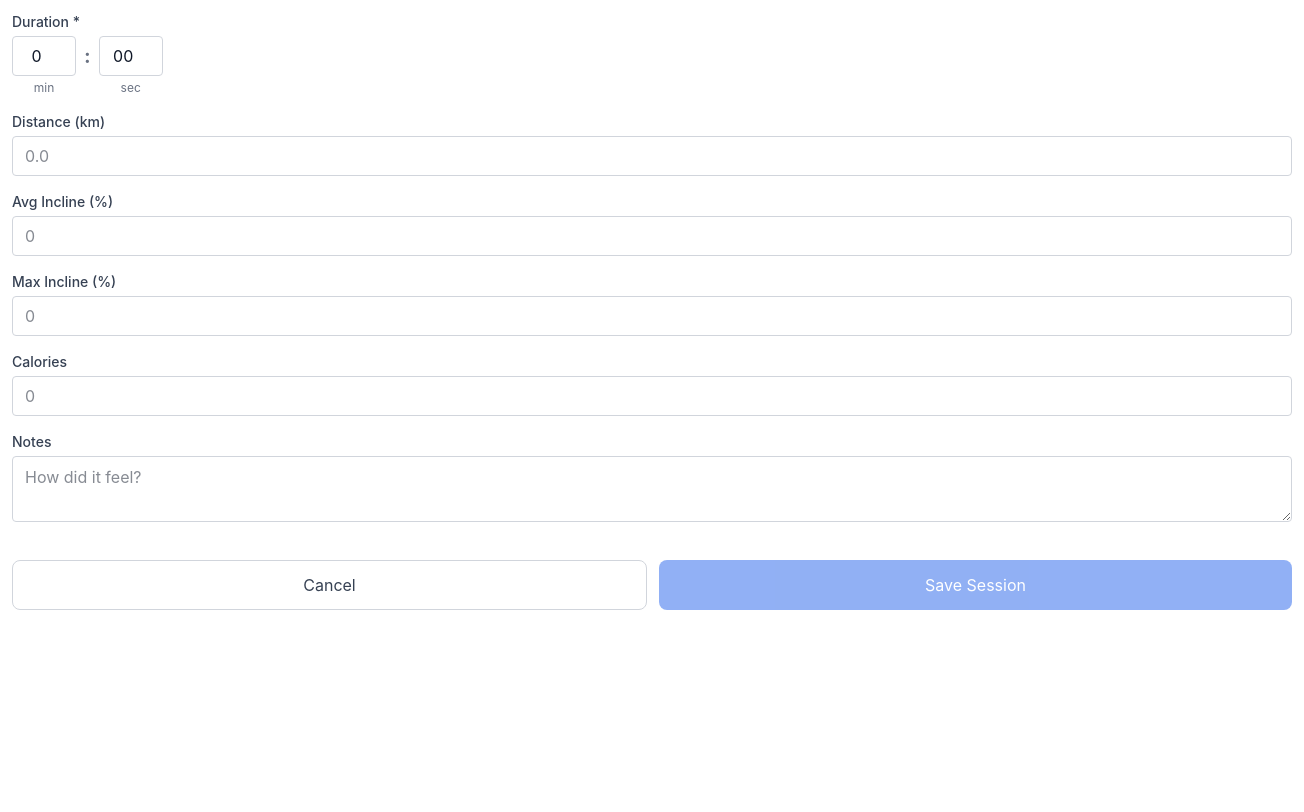
Test case: TreadmillForm › should enable save button when duration is set
This screenshot has width=1304, height=812.
Replace the text in the number field named "Minutes" with "30" at (44, 56), box [12,36,76,76]
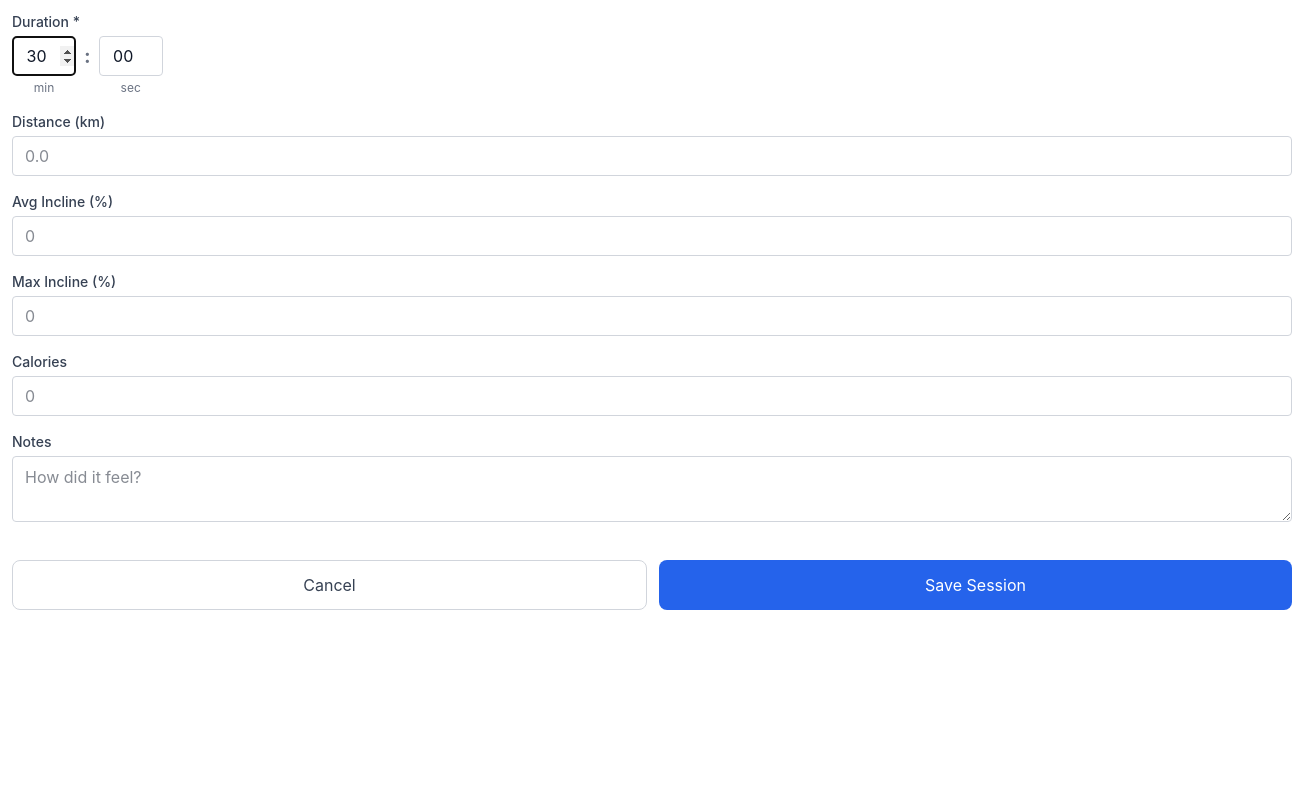
expect the button "Save Session" is enabled: met, box [659,560,1292,610]
